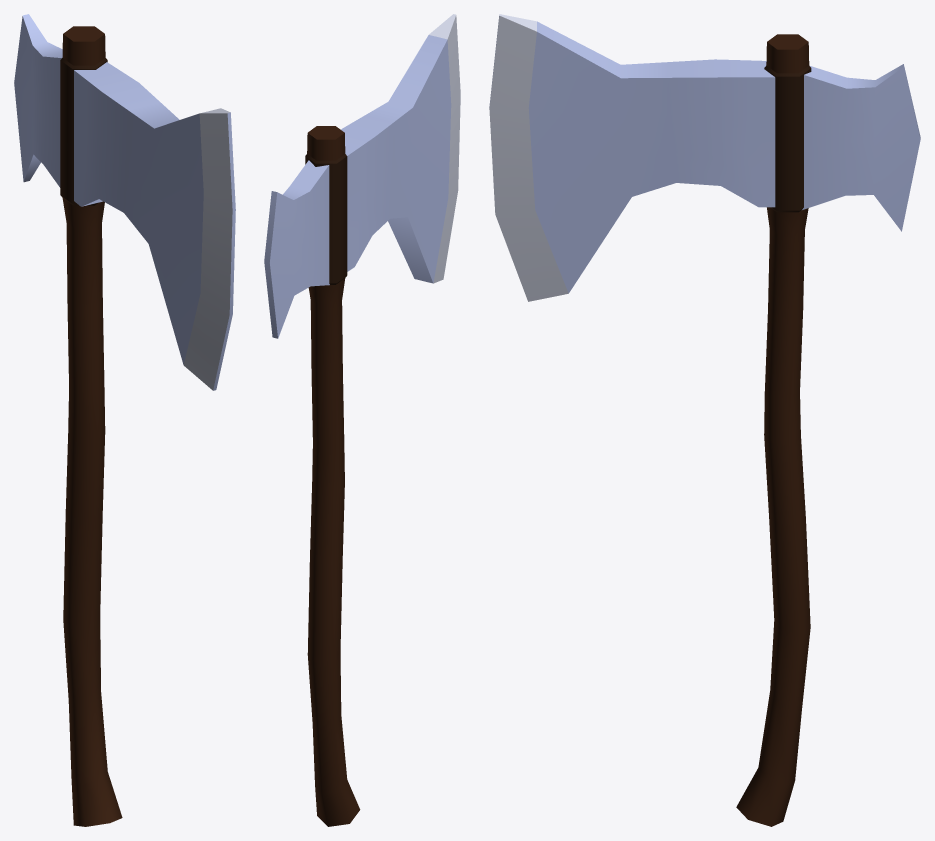
The model's file is Throwing@BigAxe.fbx.
3 views of the same model, side by side, from view 1: azimuth 30°, elevation 25°; view 2: azimuth 150°, elevation 25°; view 3: azimuth 270°, elevation 25° (orthographic). The views are drawn at different scales.
Parts seen in each view (by area): view 1: Throwing_BigAxe; view 2: Throwing_BigAxe; view 3: Throwing_BigAxe.
Part boxes in pixels (box(x1,y1,x2,y2)): Throwing_BigAxe: box(14, 14, 235, 826); Throwing_BigAxe: box(264, 14, 460, 826); Throwing_BigAxe: box(489, 14, 920, 826).
Bounding box in the file's own units: 4.68 × 97.44 × 47.19.
